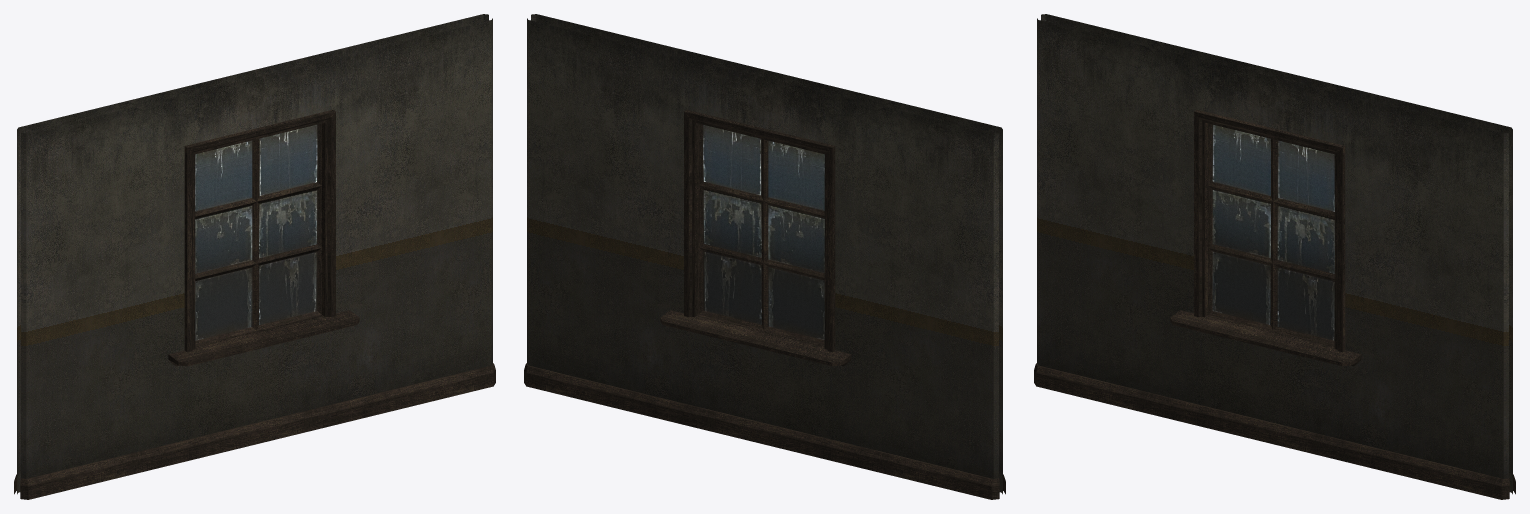
File: window_2_single.glb
The picture shows the model from 3 angles, left to right: view 1: azimuth 30°, elevation 25°; view 2: azimuth 150°, elevation 25°; view 3: azimuth 330°, elevation 25°; orthographic projection.
Parts seen in each view (by area): view 1: window_2_single; view 2: window_2_single; view 3: window_2_single.
Boxes of the visible parts, x1,y1,x2,y2 form: window_2_single: (14, 14, 495, 499); window_2_single: (524, 14, 1005, 499); window_2_single: (1034, 14, 1515, 499).
Size of the model in its own units: 4.09 by 3 by 0.52.
3 materials, 3 textured.
